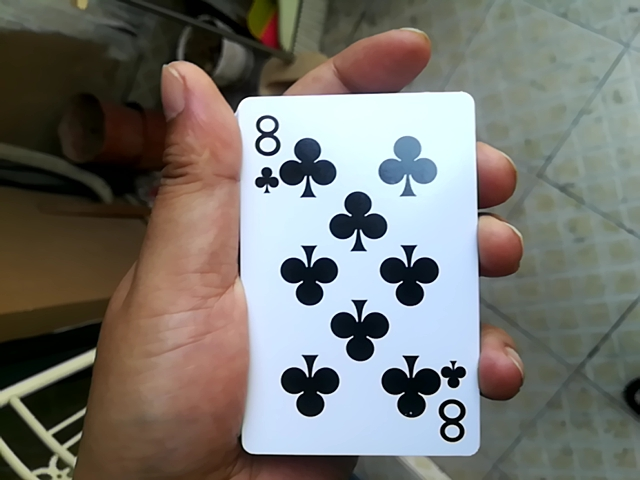mh 8: (208, 89, 468, 465)
